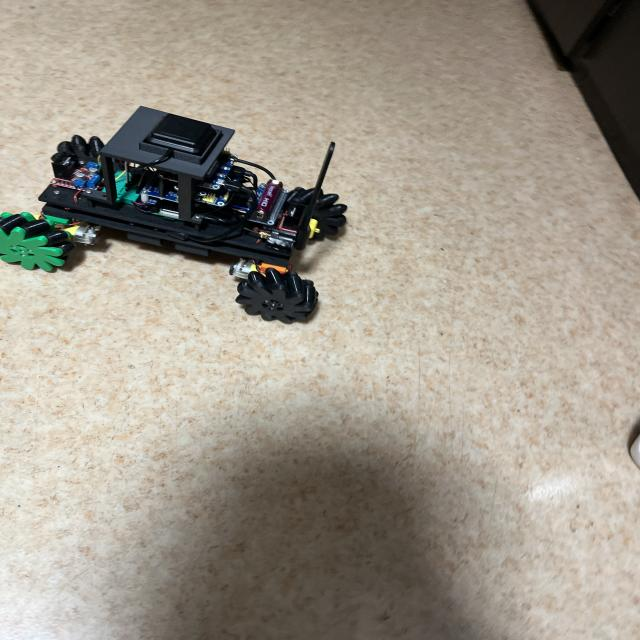robot: (0, 107, 346, 323)
